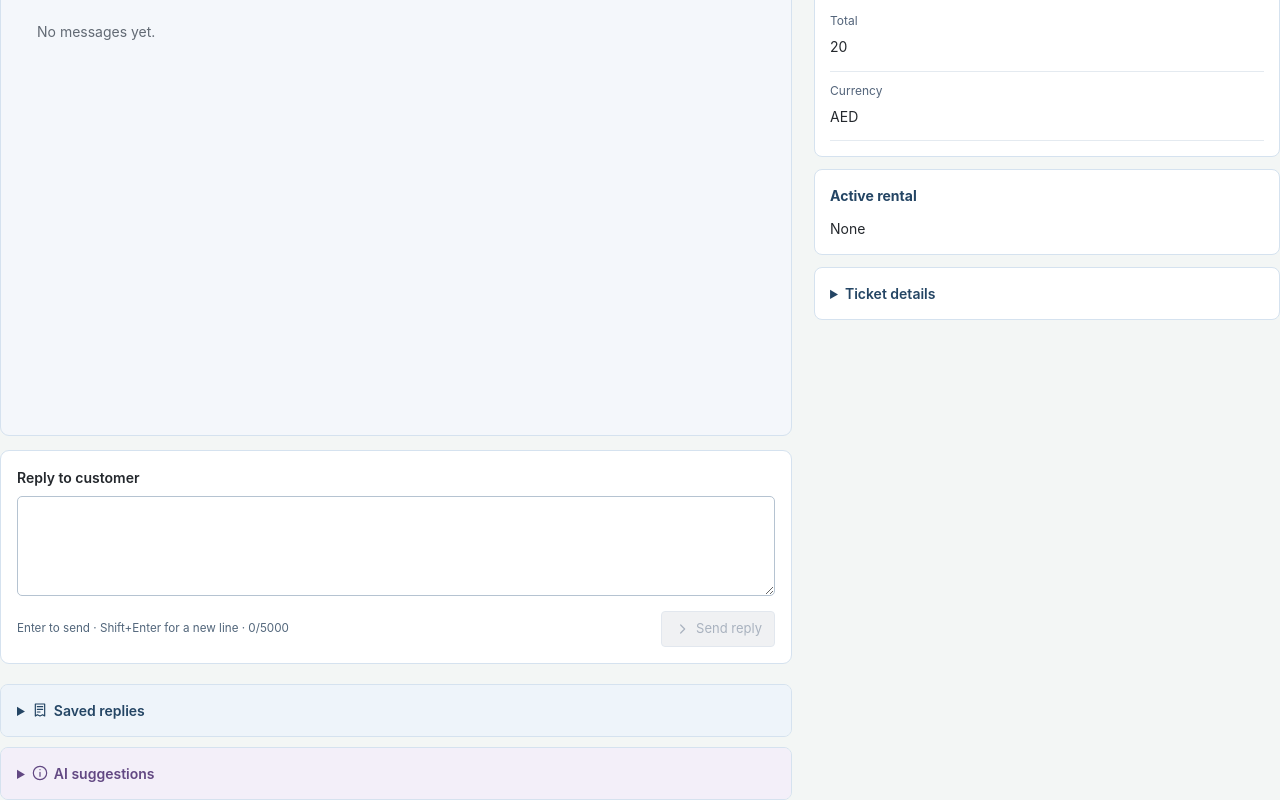
Scenario: prevents double submit and retains draft after uncertain failure
The image size is (1280, 800).
(page scrolled)
Expected: the text "No messages yet." is shown, [37,23,155,40]
In the text box labelled "Reply to customer": (396, 546) [17,496,775,596], type "Reply"
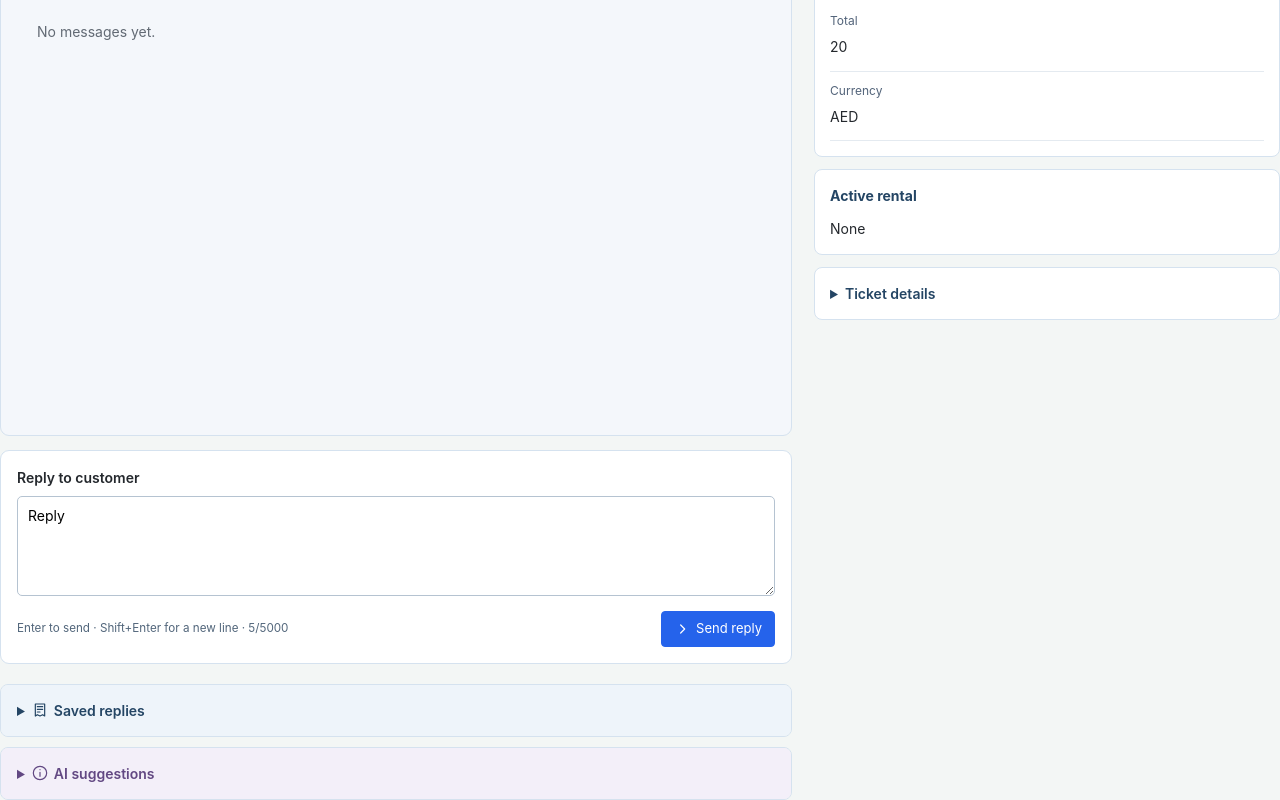
Click the button "Send reply": click(718, 629) [661,611,775,647]
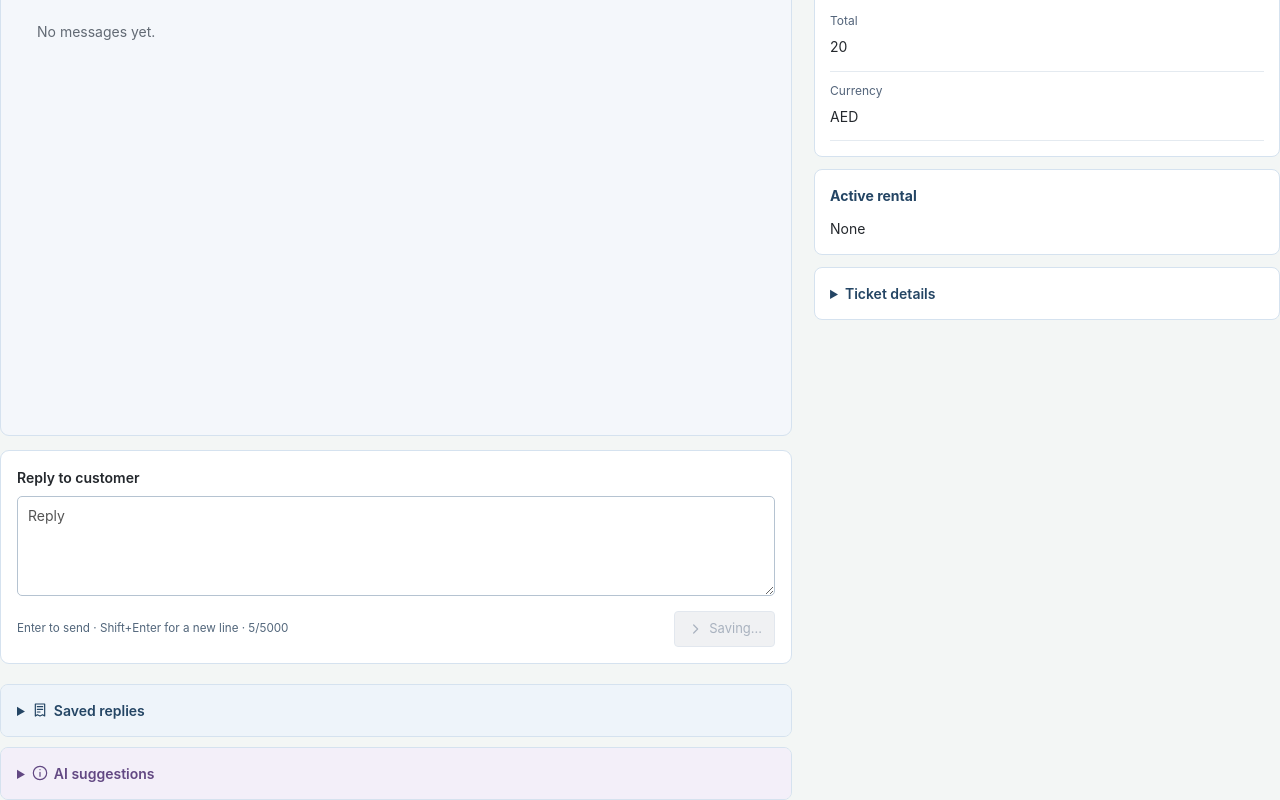
Click the button named "Send reply": click(725, 629) [674,611,775,647]
(page scrolled)
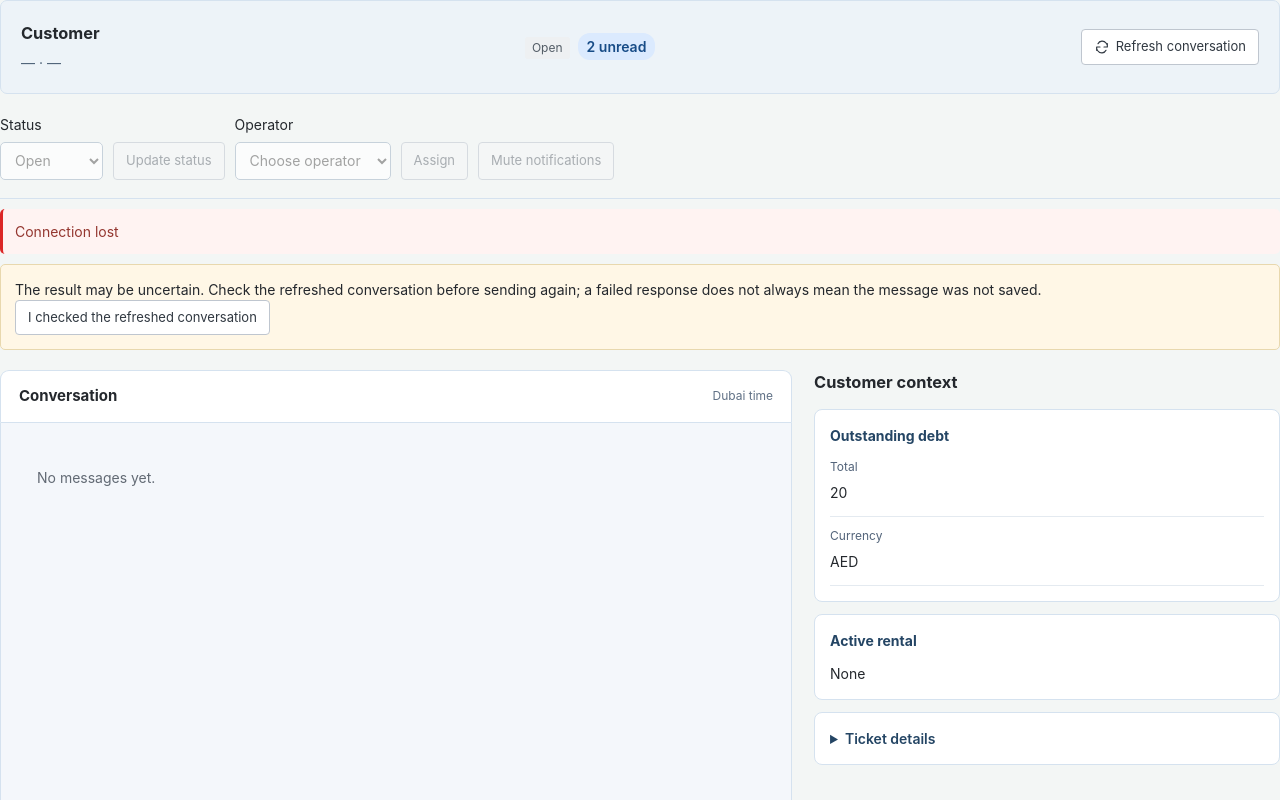
Result: the text "Connection lost" is shown at [0,209,1279,254]
Result: the button "I checked the refreshed conversation" is enabled at [15,300,270,335]
